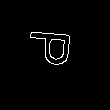P_E: (28, 34, 82, 76)
